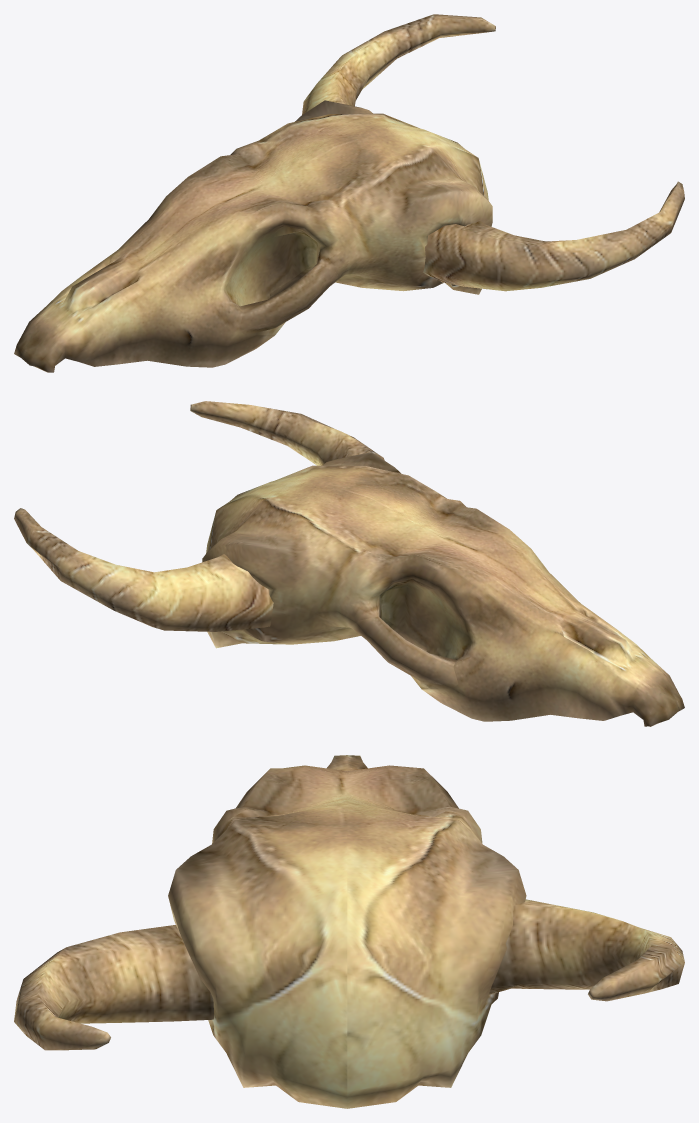
The model's file is Skull_03.FBX.
3 views of the same model, one above another, from view 1: azimuth 30°, elevation 25°; view 2: azimuth 150°, elevation 25°; view 3: azimuth 270°, elevation 25° (orthographic). The views are drawn at different scales.
Parts seen in each view (by area): view 1: Skull_03; view 2: Skull_03; view 3: Skull_03.
Boxes of the visible parts, box(x1,y1,x2,y2) form: Skull_03: box(14, 14, 684, 372); Skull_03: box(14, 401, 684, 726); Skull_03: box(14, 755, 684, 1108).
Size of the model in its own units: 31.63 by 8.65 by 23.47.
